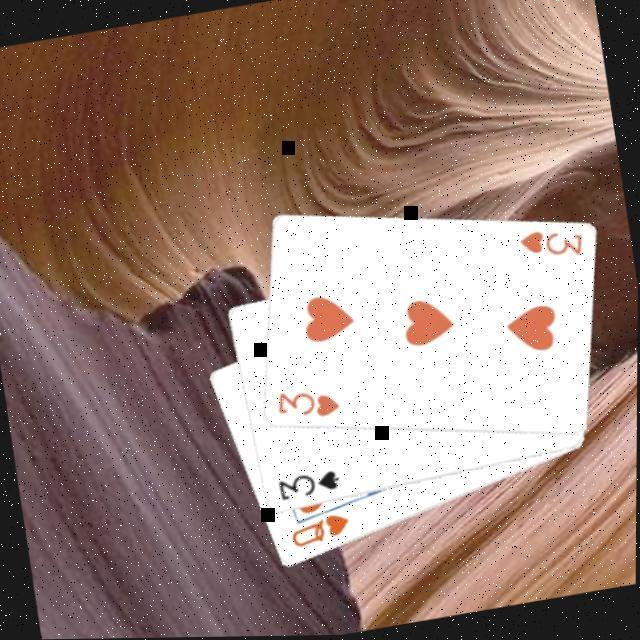3H: (273, 378, 345, 427), (516, 221, 589, 268)
3S: (276, 465, 346, 504)
QH: (287, 508, 357, 551)
